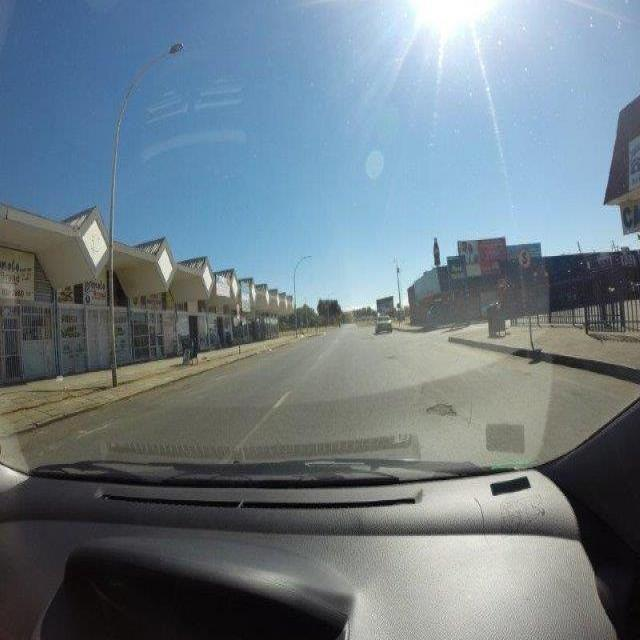lubang: (424, 398, 458, 420)
